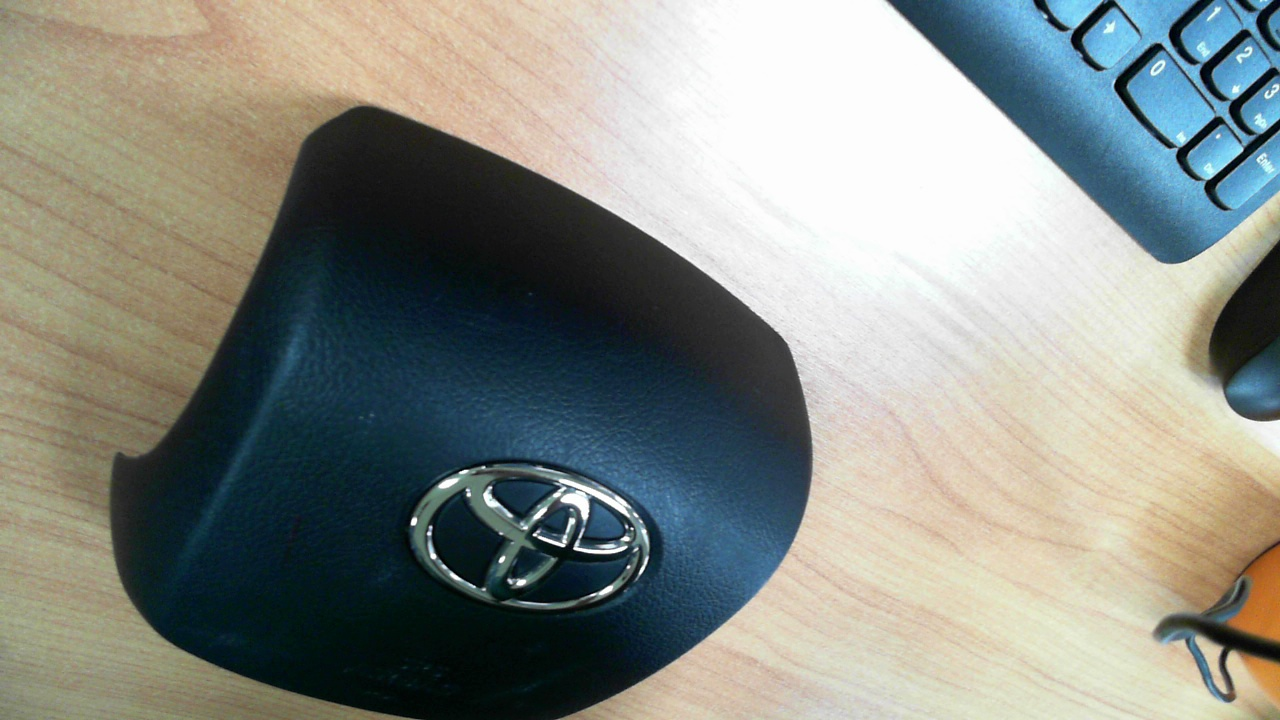Airbag: (107, 105, 813, 716)
Toyota: (409, 462, 651, 610)
